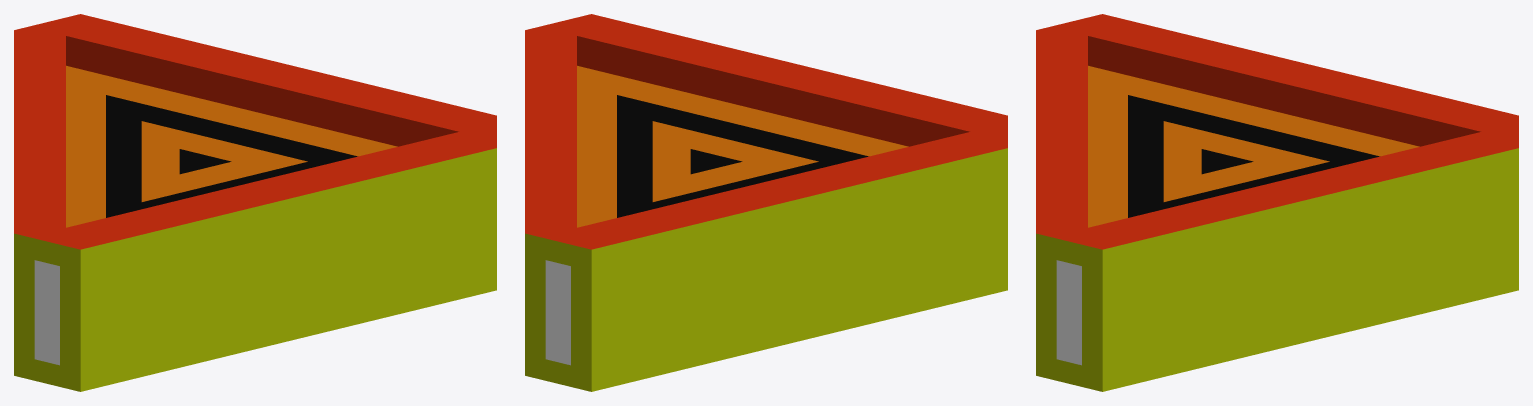
The model's file is valise_jaune_s.fbx.
3 renders of one model, left to right at view 1: azimuth 30°, elevation 25°; view 2: azimuth 150°, elevation 25°; view 3: azimuth 270°, elevation 25°, orthographic.
Visible parts, largest first — view 1: valise_jaune; view 2: valise_jaune; view 3: valise_jaune.
Part boxes in pixels (x1,y1,x2,y2): valise_jaune: (14,14,496,391); valise_jaune: (525,14,1007,391); valise_jaune: (1036,14,1518,391).
Bounding box in the file's own units: 107 × 30 × 92.29.
